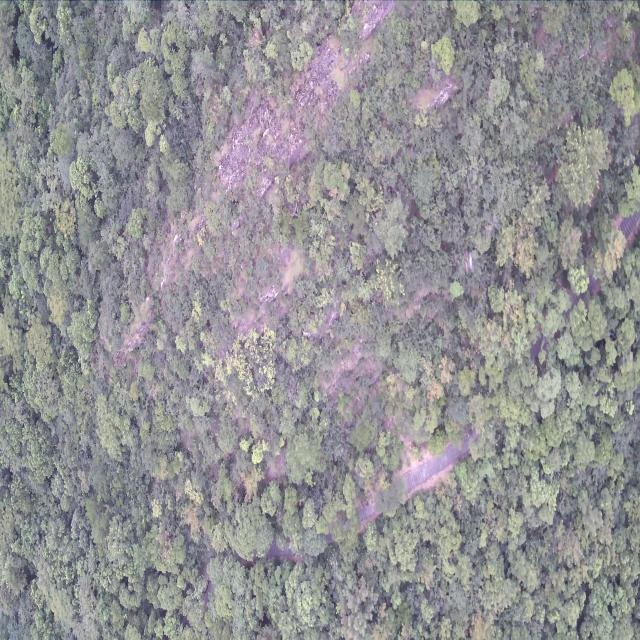UAV: (465, 248, 478, 274)
